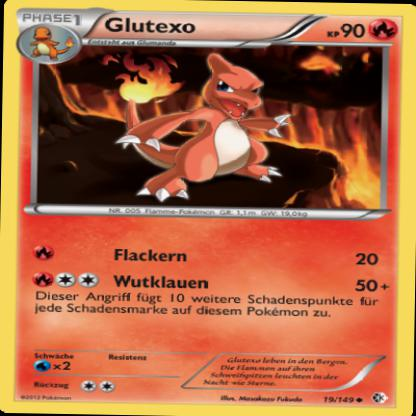Charmeleon: (110, 48, 290, 206)
